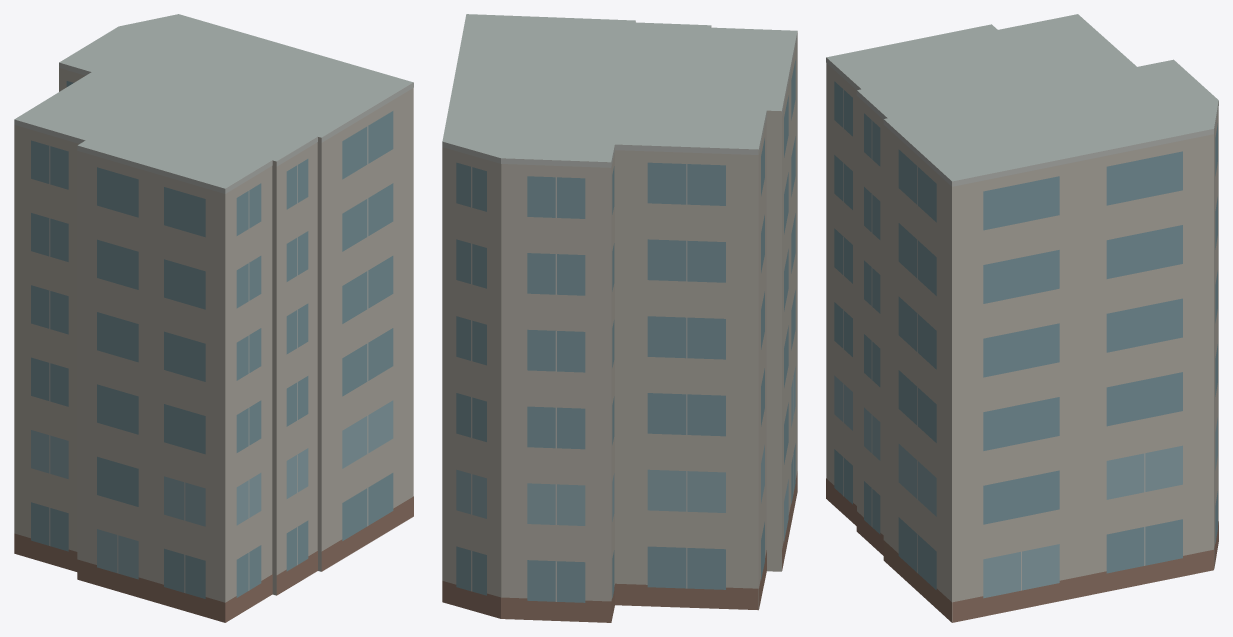
The model's file is survey-upis-32852158.glb.
3 renders of one model, left to right at view 1: azimuth 30°, elevation 25°; view 2: azimuth 150°, elevation 25°; view 3: azimuth 270°, elevation 25°, orthographic. The views are drawn at different scales.
Visible parts, largest first — view 1: survey-upis-32852158.tmp; view 2: survey-upis-32852158.tmp; view 3: survey-upis-32852158.tmp.
Part boxes in pixels (left/top/right/bottom): survey-upis-32852158.tmp: left=14, top=14, right=413, bottom=622; survey-upis-32852158.tmp: left=442, top=14, right=797, bottom=622; survey-upis-32852158.tmp: left=826, top=14, right=1218, bottom=622.
Size of the model in its own units: 16.28 by 20 by 16.13.
